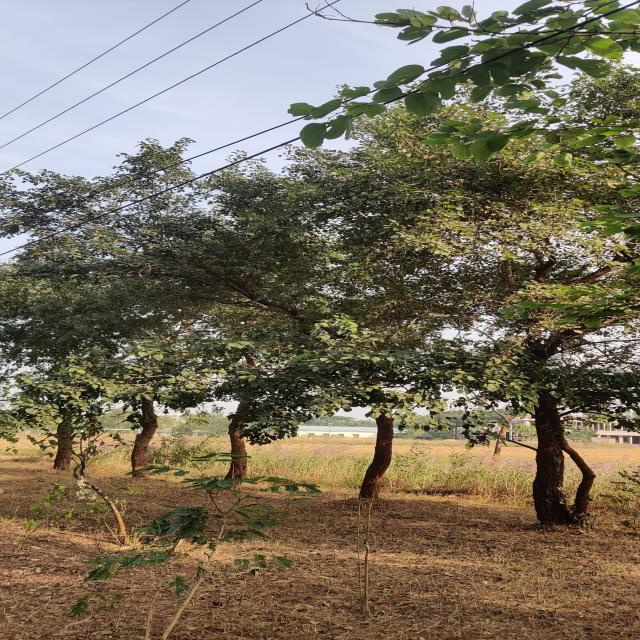Devakanchan tree: (21, 111, 541, 462)
